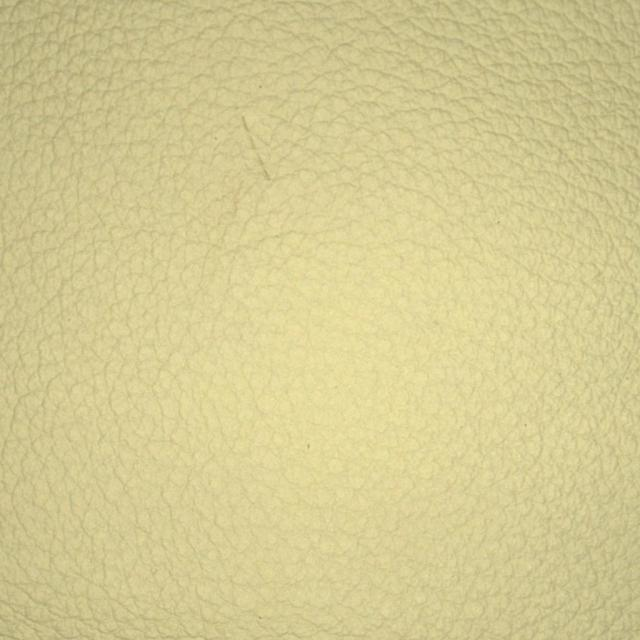Scratch: (185, 71, 327, 252)
